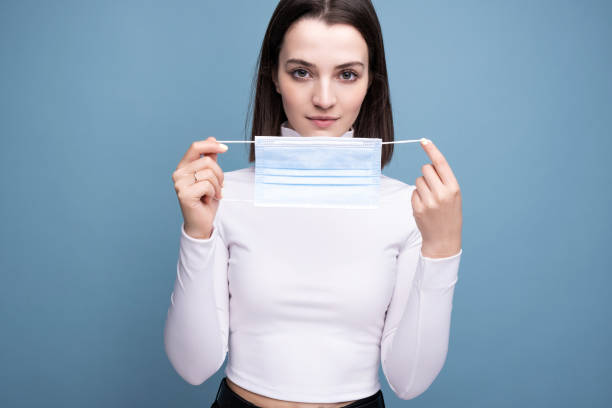without_mask: (267, 4, 378, 137)
